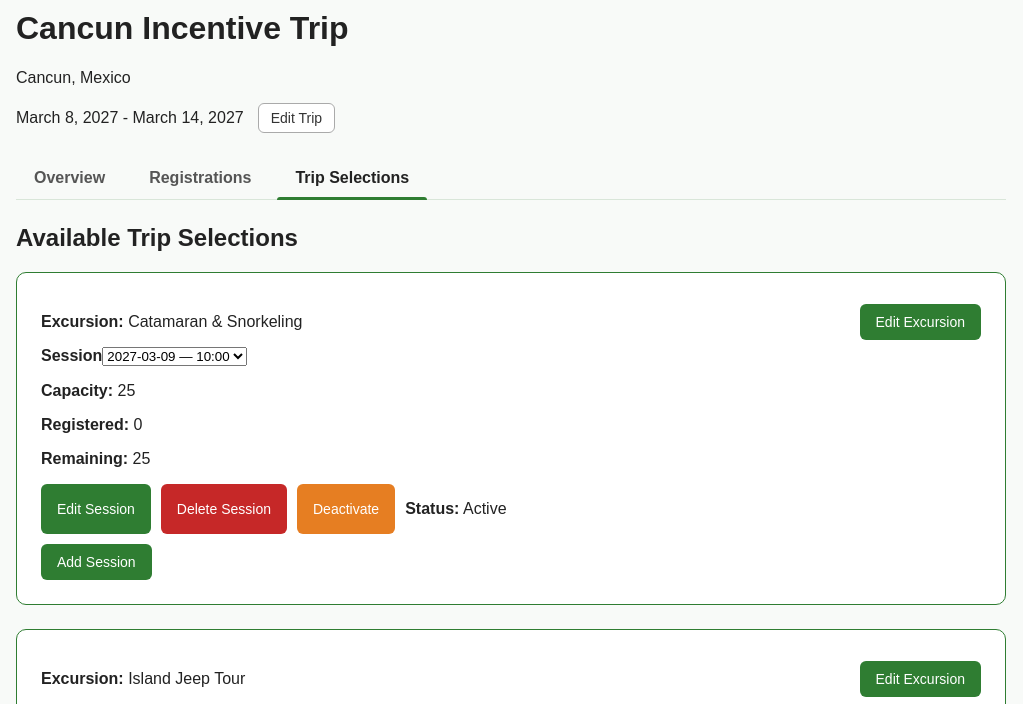
Test: TripManagement › deactivates an active session
Click the button "Deactivate": (346, 509) [297,484,395,534]
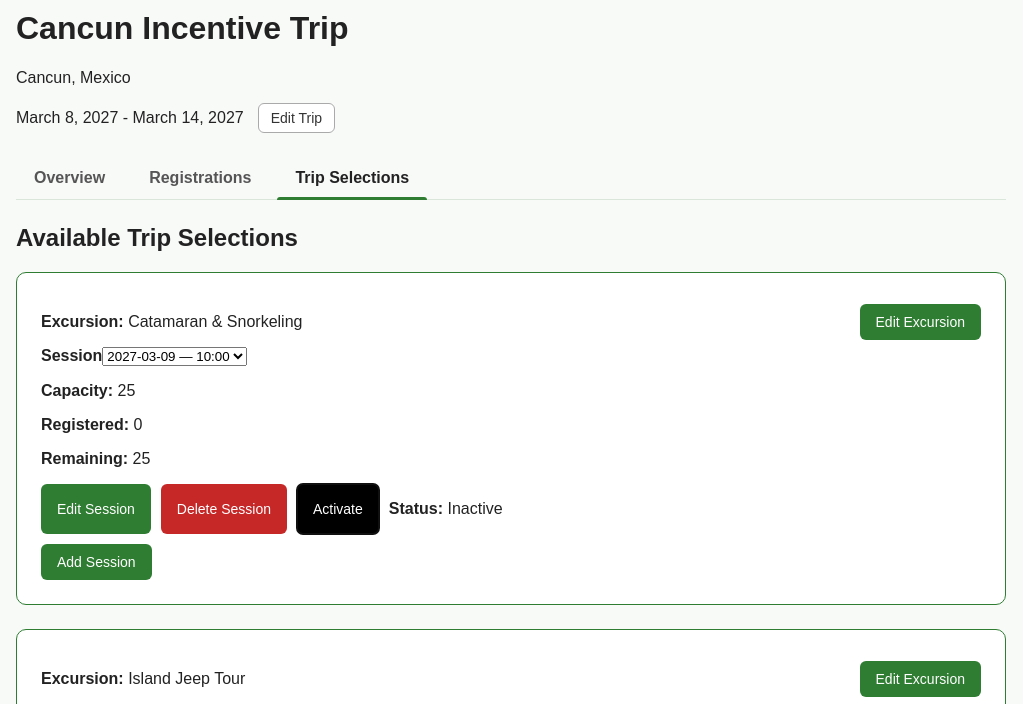
Expected: the button "Activate" is shown, [297,484,379,534]
Expected: the text "Inactive" is shown, [448,500,503,517]
